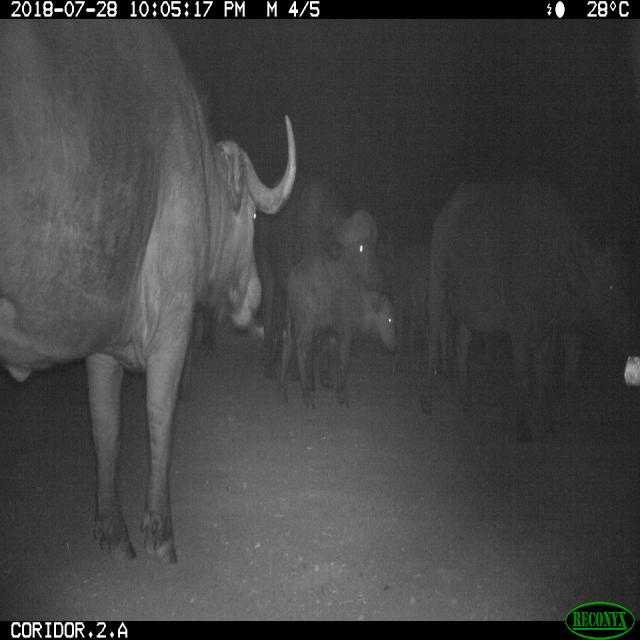buffalo: (0, 68, 321, 560)
